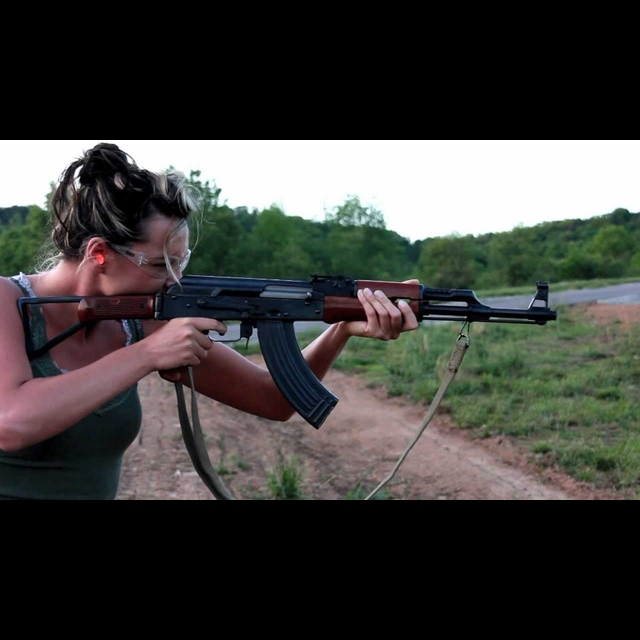AK47: (163, 275, 559, 429)
